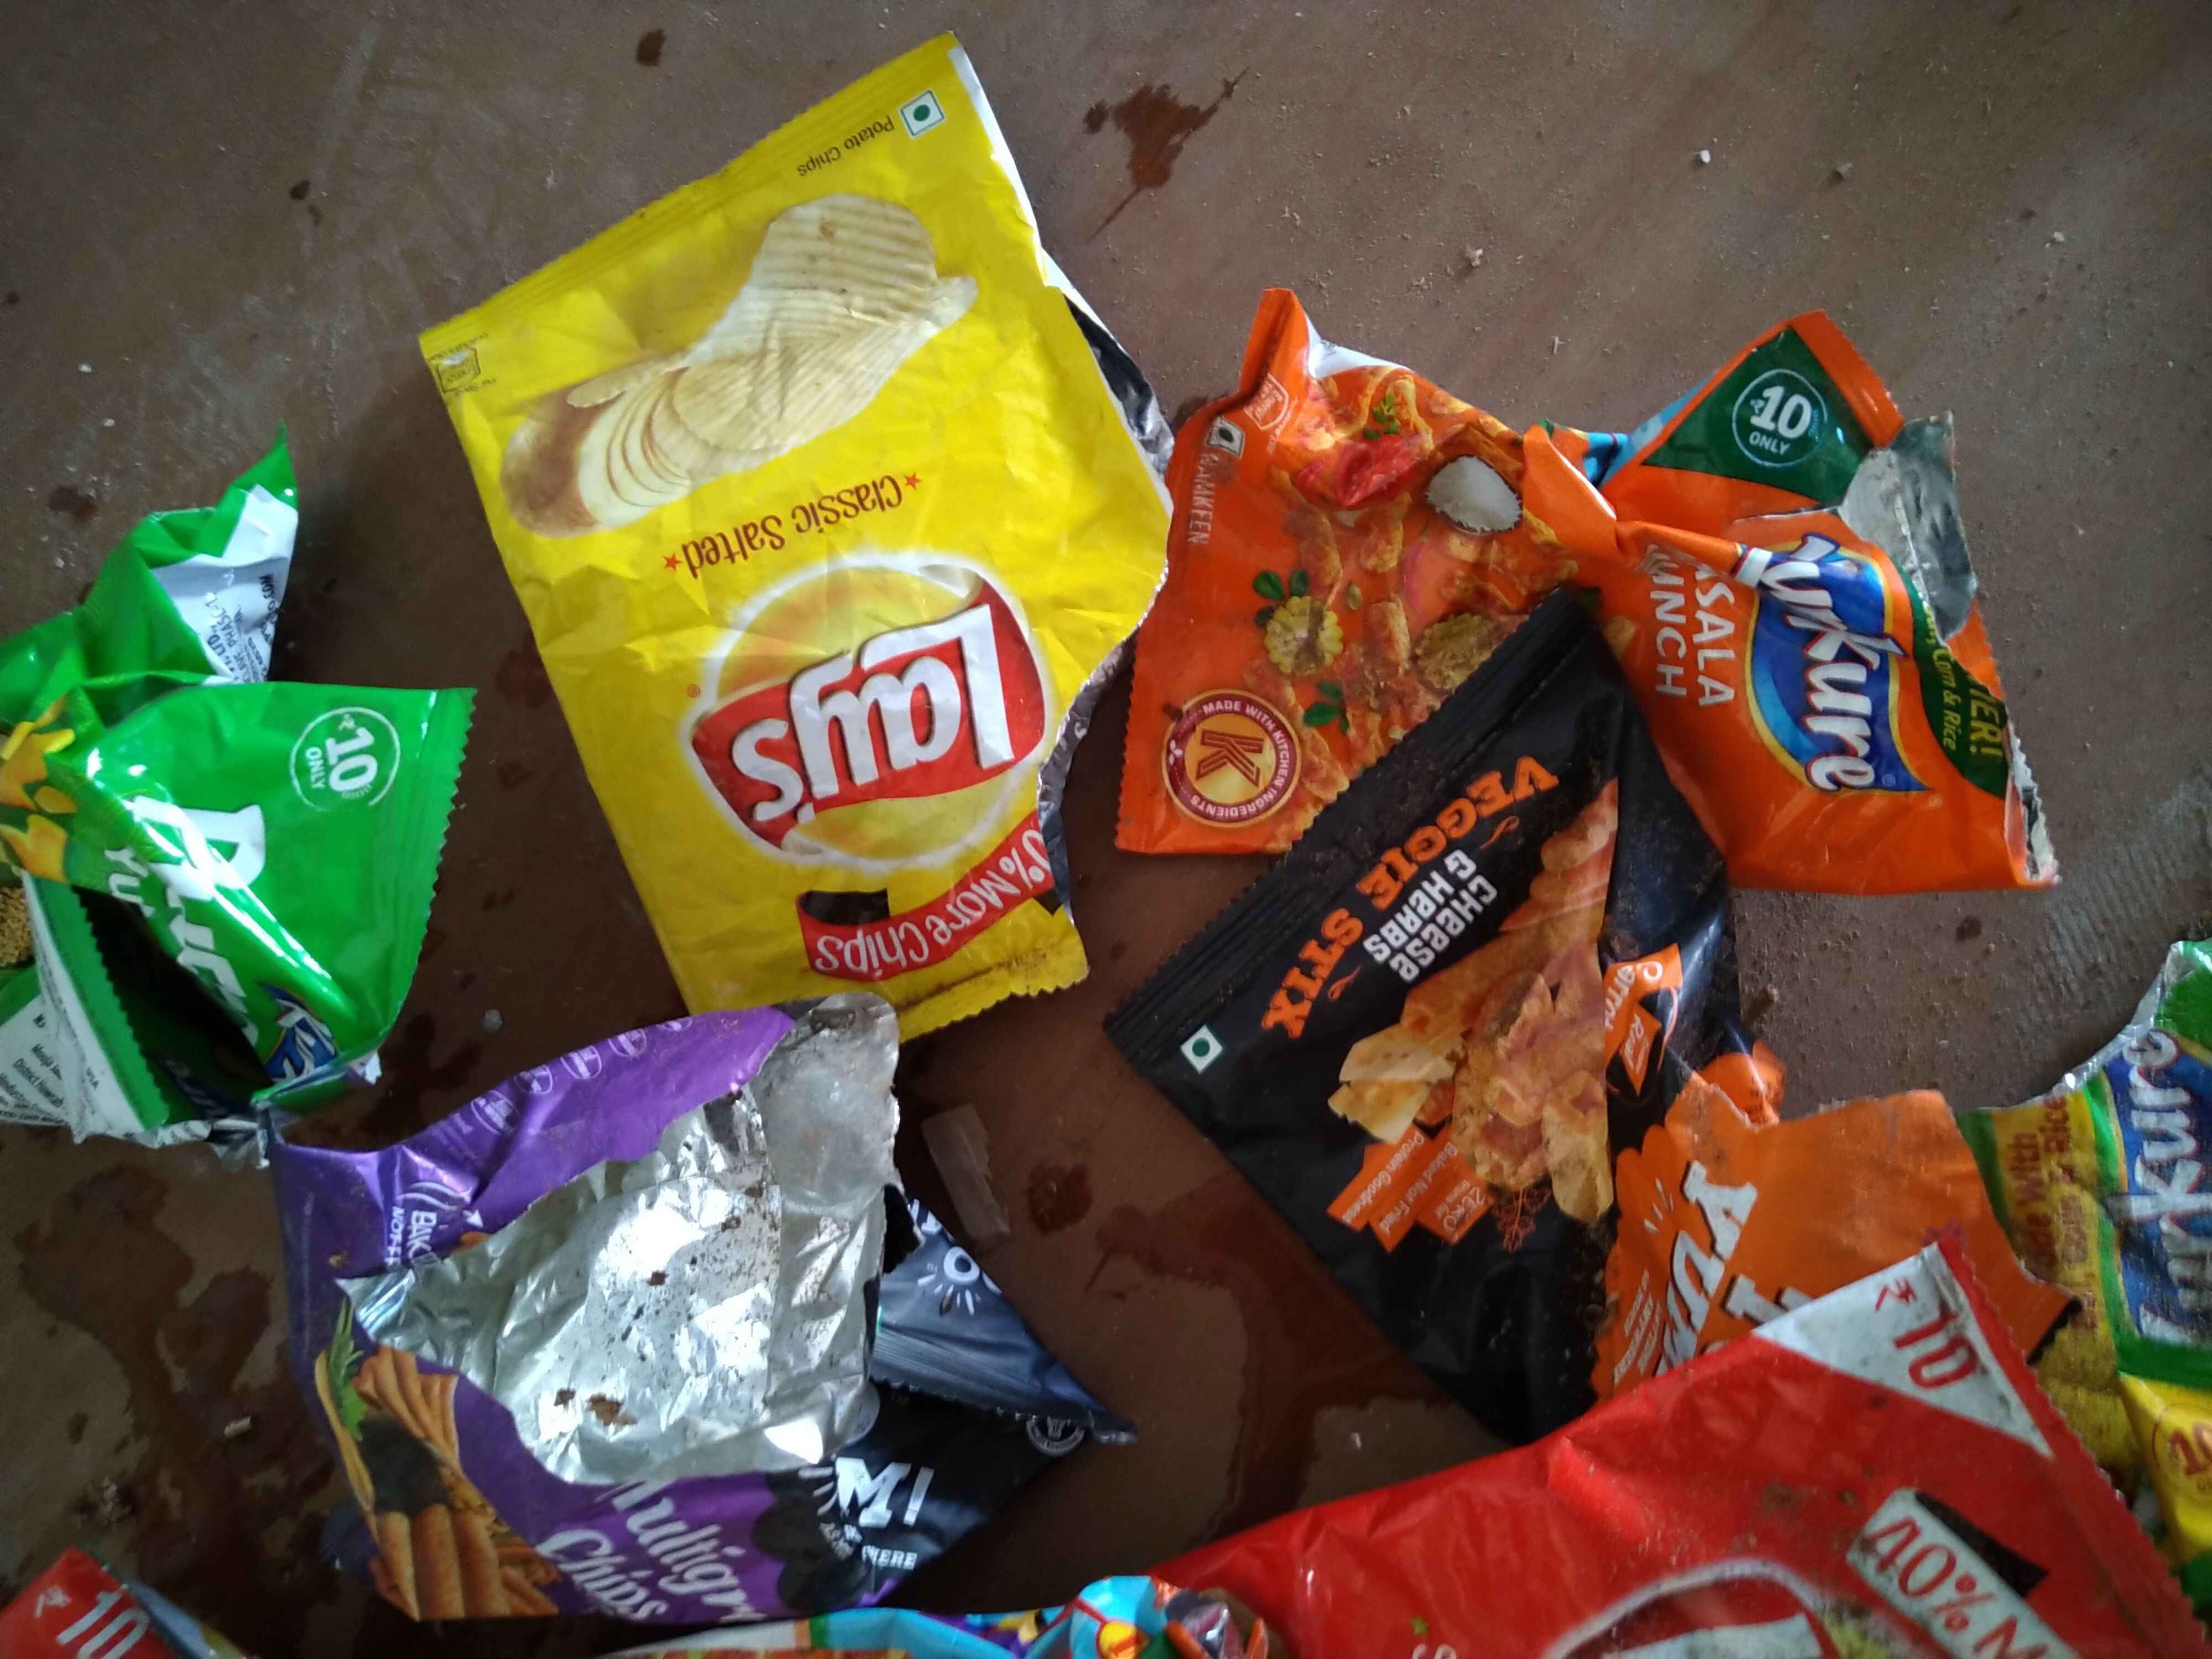Lays: (721, 538, 1035, 890)
kurkure: (1731, 493, 1942, 838), (2111, 1006, 2212, 1366), (263, 976, 343, 1098)
tooyumm: (1646, 1140, 1850, 1385), (810, 1417, 953, 1554)
